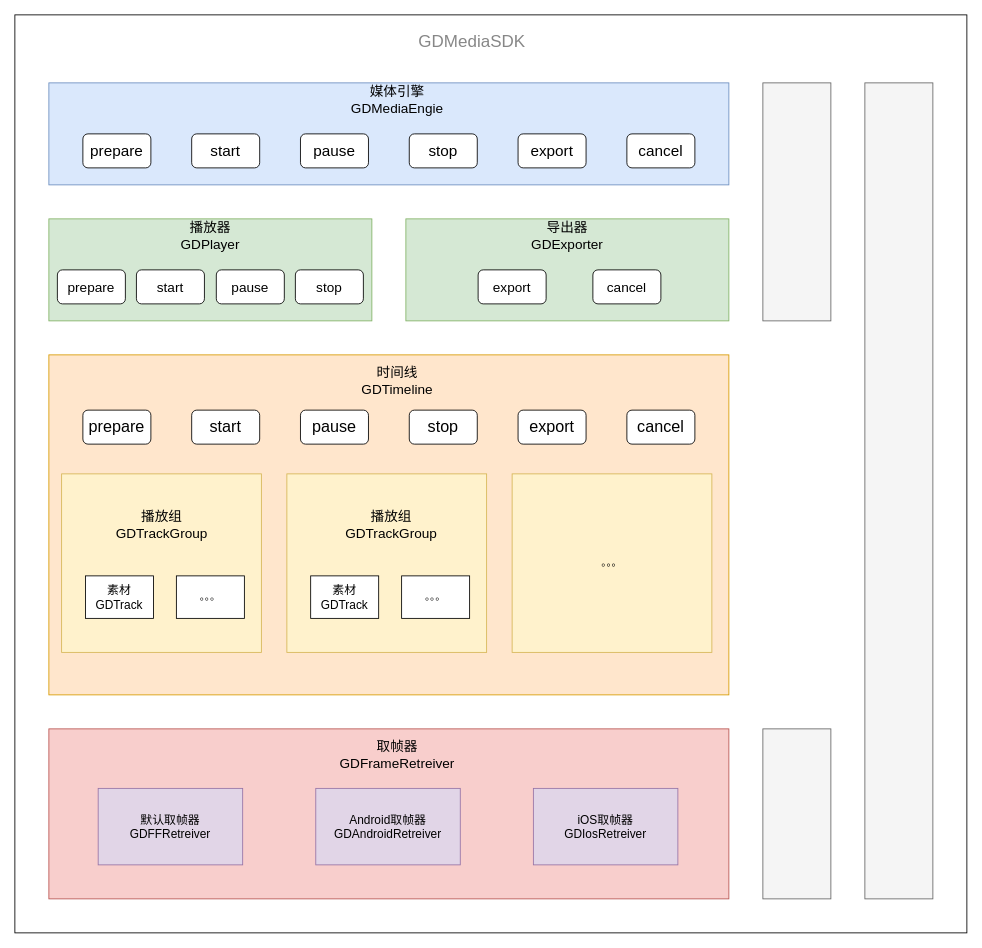
The diagram is 982 pixels wide and 948 high, and some of its shapes have lost their labels. The box of each missing label's shape, as (x1, y1, x2, y2) in pixels:
状态机: (762, 82, 831, 321)
线程池: (762, 728, 831, 899)
缓冲队列 && 日志系统: (864, 82, 933, 899)
